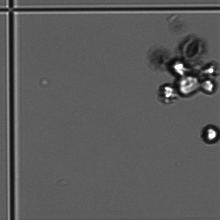Dead Cell: (180, 31, 205, 55), (149, 42, 168, 66)
Living Cell: (178, 65, 213, 97), (198, 120, 219, 150), (154, 81, 178, 105)
